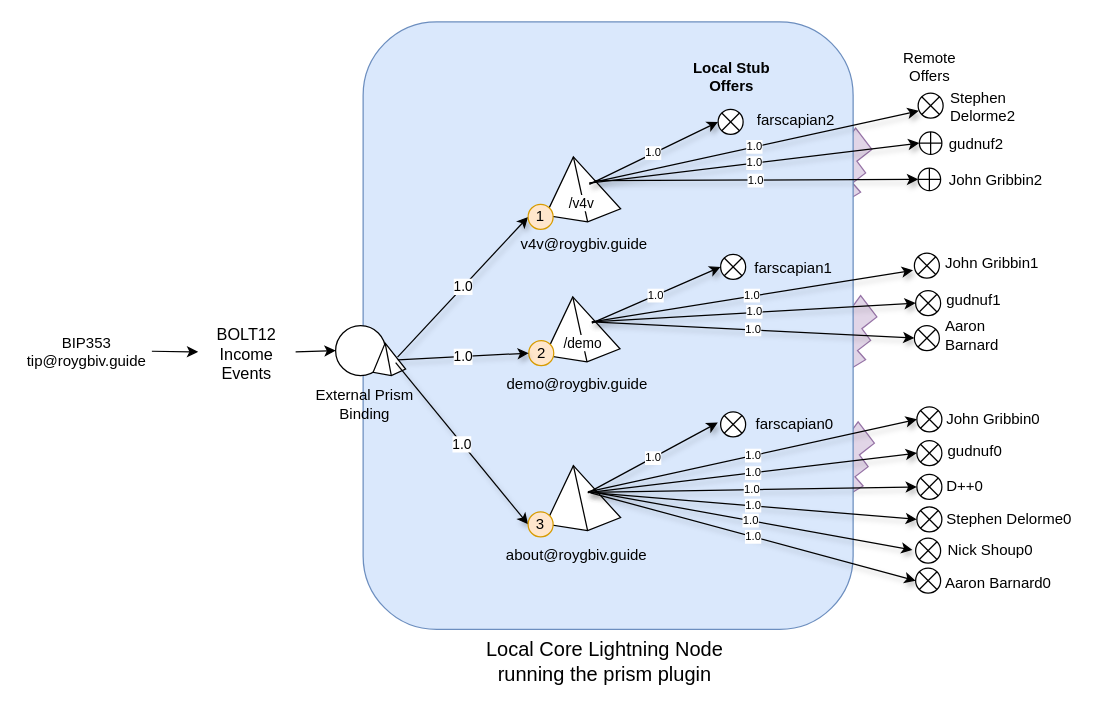
Image size: 1098x706. Some labels were removed from this diagram. Each missing label, with the centre of its shape:
/about: [582,497]
tip_ offer: [360,350]
